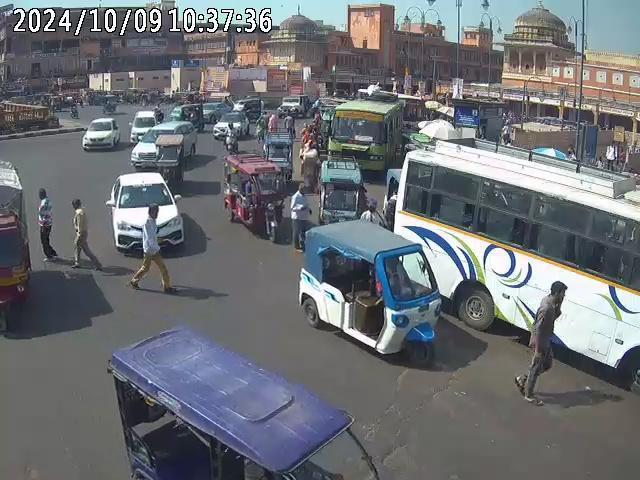auto: (105, 324, 378, 478), (297, 217, 441, 364), (221, 151, 285, 239), (316, 154, 364, 224), (154, 134, 186, 188)
bus: (394, 136, 639, 388), (326, 92, 406, 176)
car: (108, 170, 185, 254), (81, 117, 120, 152), (213, 109, 248, 141), (128, 109, 160, 143)
lorry: (0, 160, 28, 335)
person: (526, 280, 567, 403), (129, 206, 174, 292), (288, 182, 312, 248), (70, 197, 90, 270), (36, 188, 54, 260)
